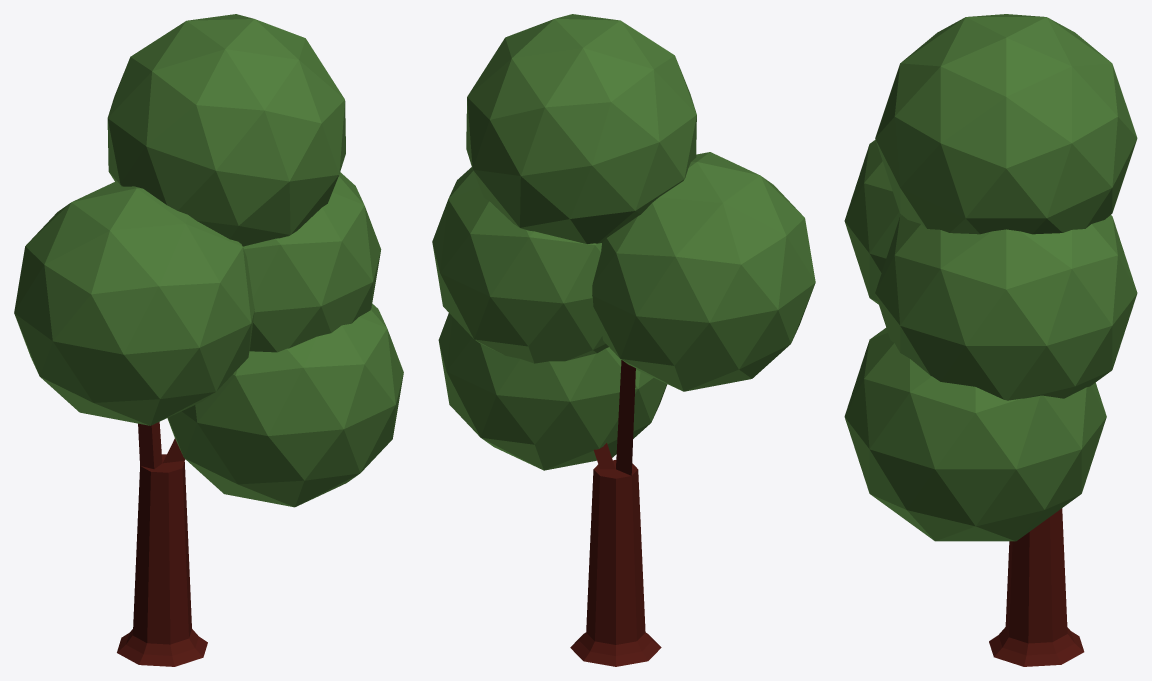
File: agac2.fbx
3 renders of one model, left to right at view 1: azimuth 30°, elevation 25°; view 2: azimuth 150°, elevation 25°; view 3: azimuth 270°, elevation 25°, orthographic. The views are drawn at different scales.
Visible parts, largest first — view 1: Cylinder.002; view 2: Cylinder.002; view 3: Cylinder.002.
Part boxes in pixels (<box>): Cylinder.002: <box>14,14,403,666</box>; Cylinder.002: <box>432,14,815,666</box>; Cylinder.002: <box>844,14,1137,666</box>.
Bounding box in the file's own units: 75.51 × 128 × 52.19.
